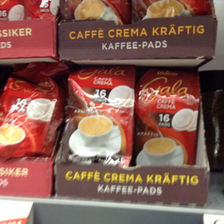coffee: (61, 63, 134, 166), (135, 68, 200, 163), (1, 64, 63, 163)
